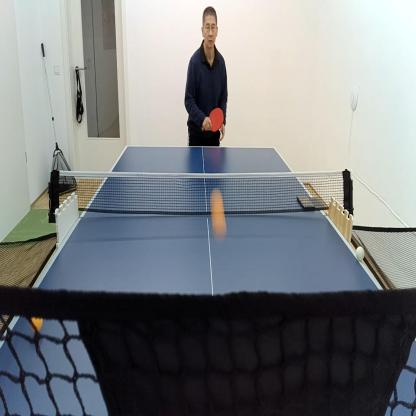Ball: (209, 186, 229, 239), (30, 313, 44, 335), (356, 242, 366, 264)
